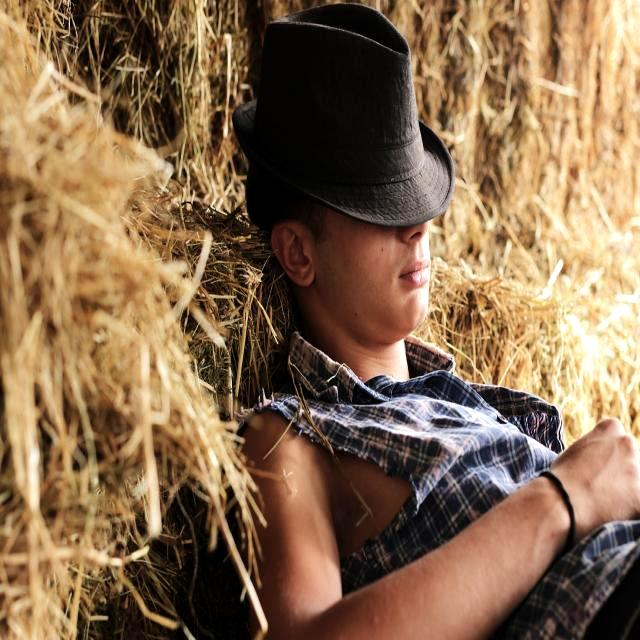no_hard_hat: (233, 5, 455, 227)
person: (244, 5, 640, 639)
